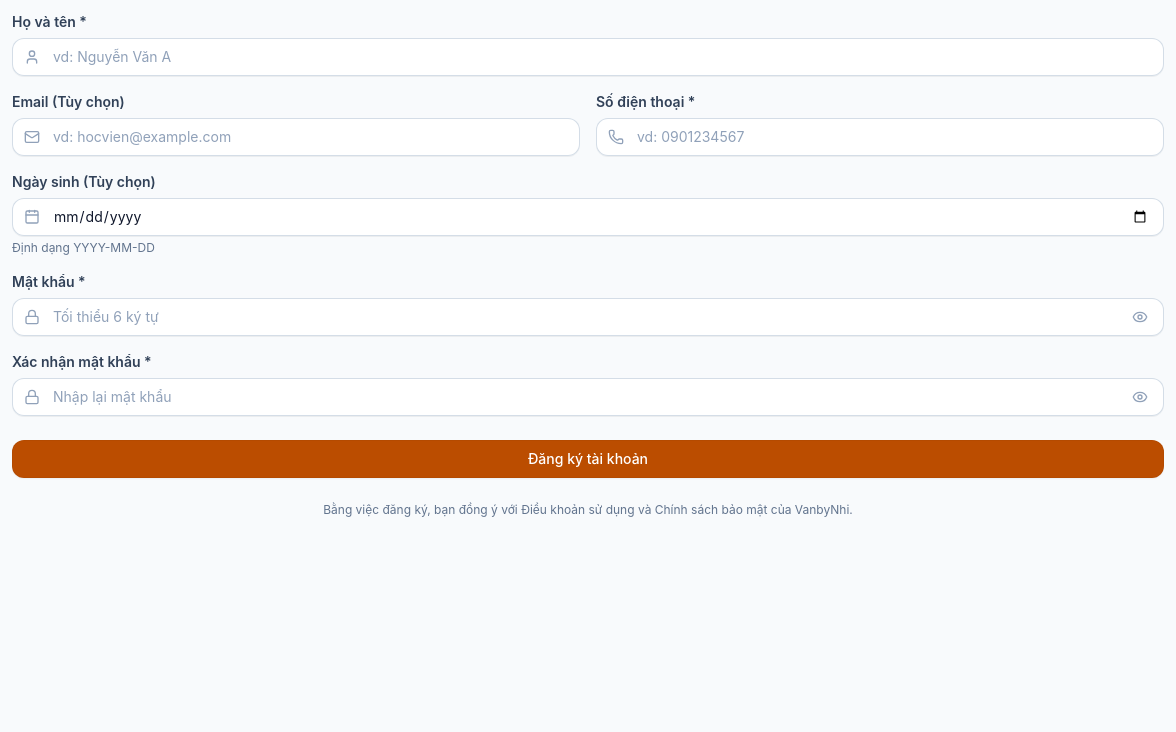
RegisterForm › validates mismatched passwords
Step 1. Type "Password123" into the password field labelled "Mật khẩu *" → (588, 317), box [12,298,1164,336]
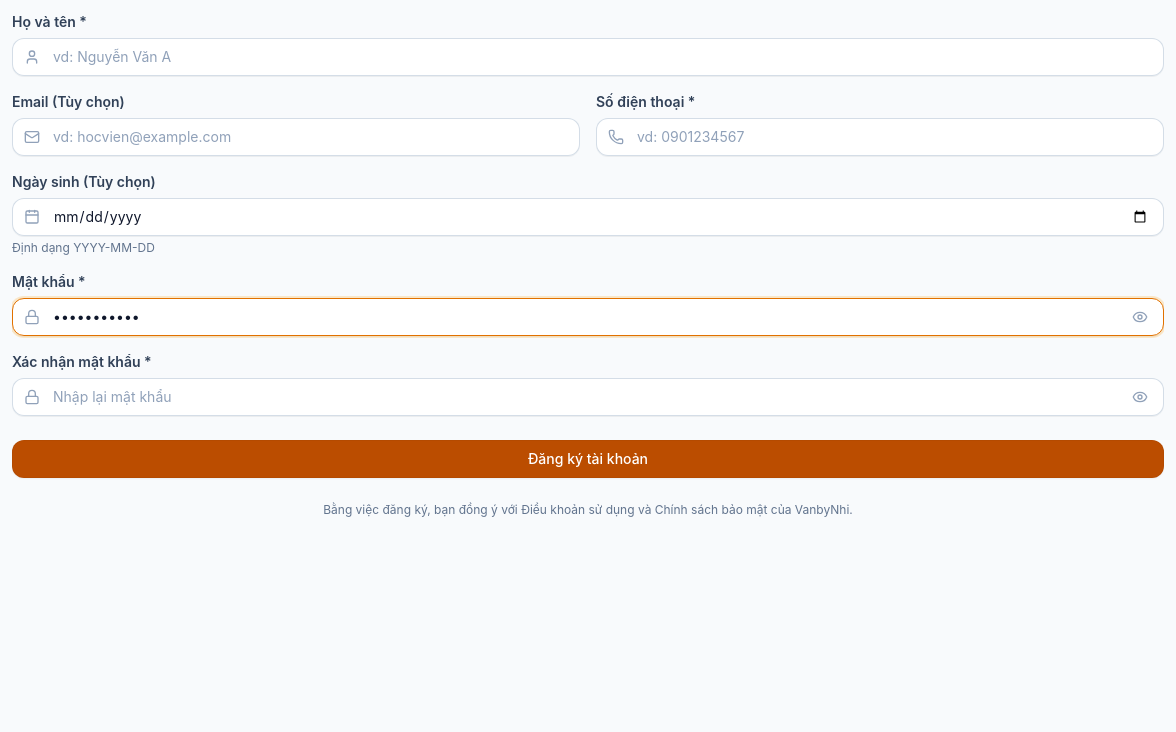
Step 2. Type "DifferentPassword" into the password field labelled "Xác nhận mật khẩu *" → (588, 397), box [12,378,1164,416]
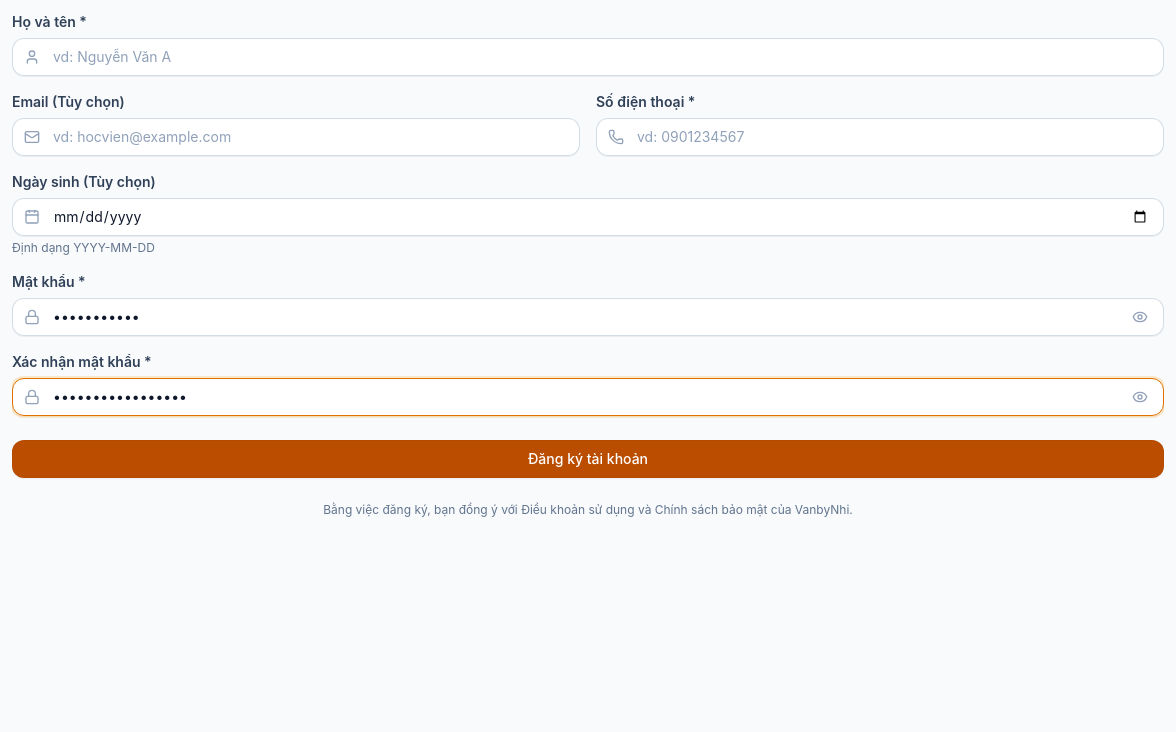
Step 3. Click the button "Đăng ký tài khoản" → (588, 459), box [12,440,1164,478]
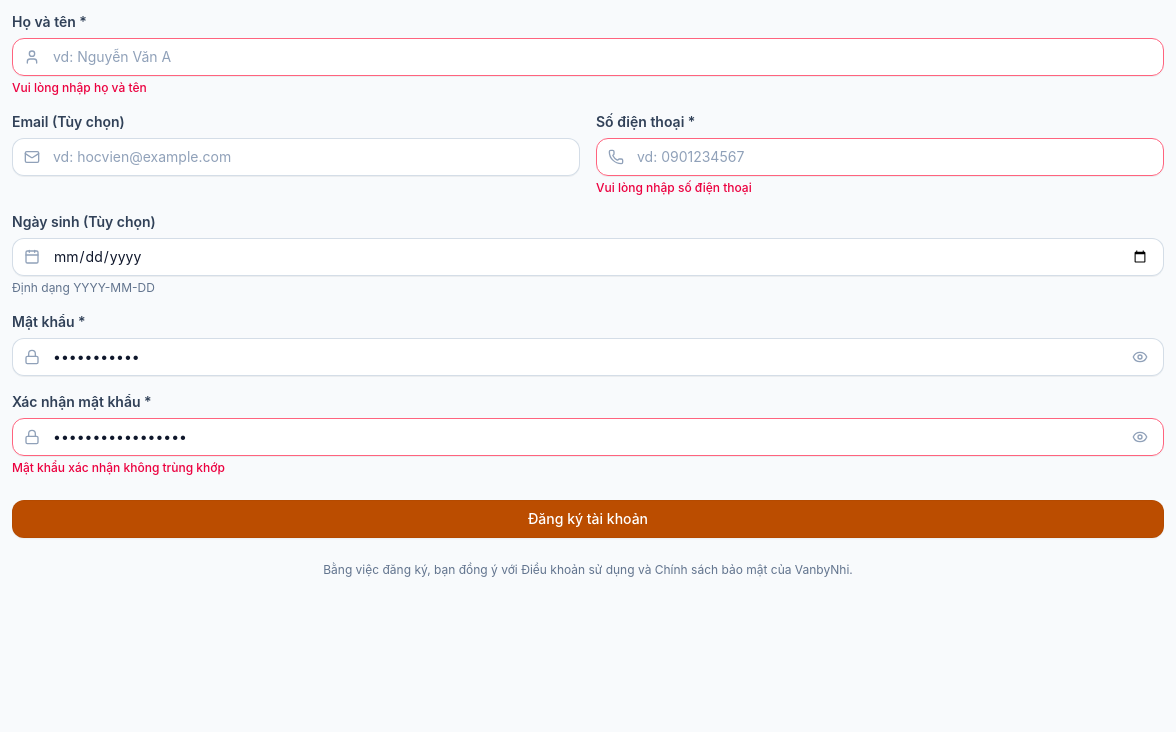
Now the text "Mật khẩu xác nhận không trùng khớp" is shown, box [12,460,225,475]
